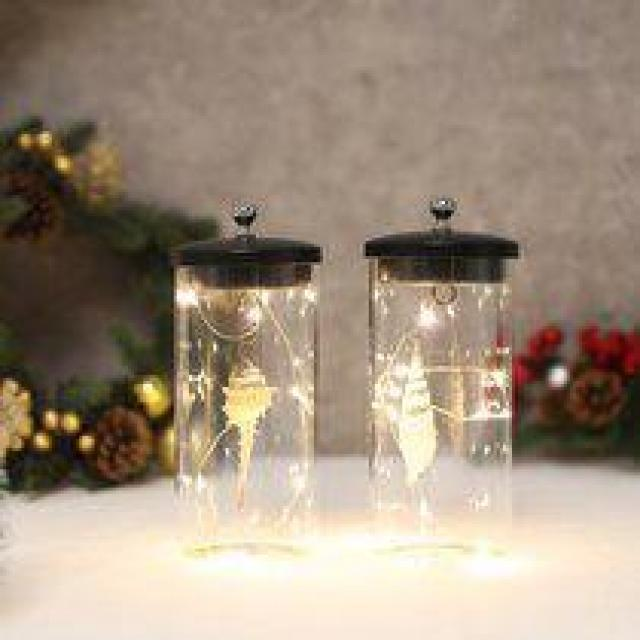glass: (174, 199, 324, 556)
